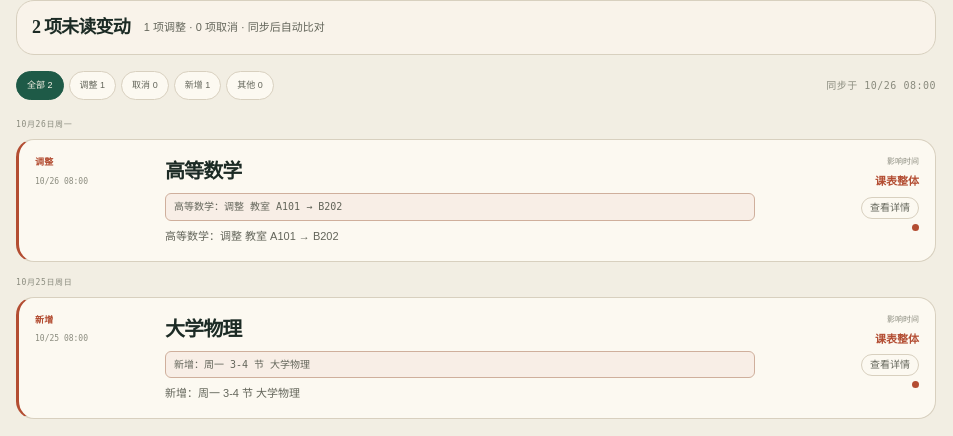
Changes page › filters by change category
Click the button "新增 1": [197, 86] box [174,71,221,100]
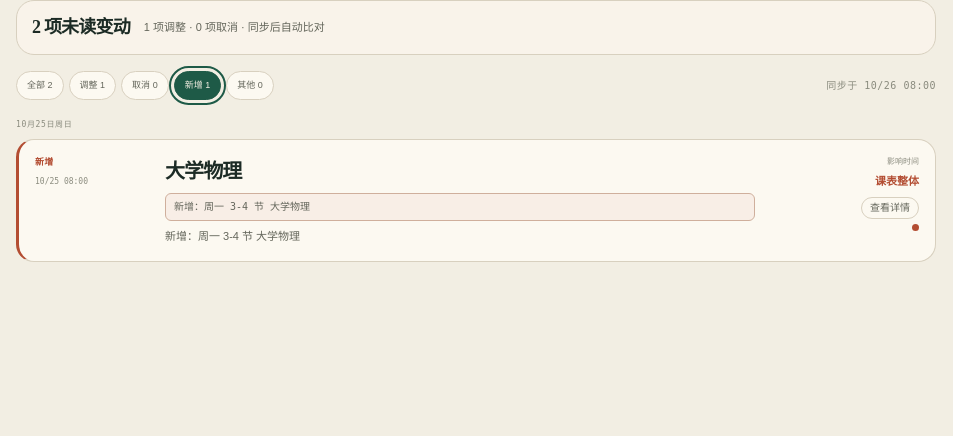
expect the heading "大学物理" is shown: met, box [165,160,241,182]
expect the heading "高等数学" is gone: met
